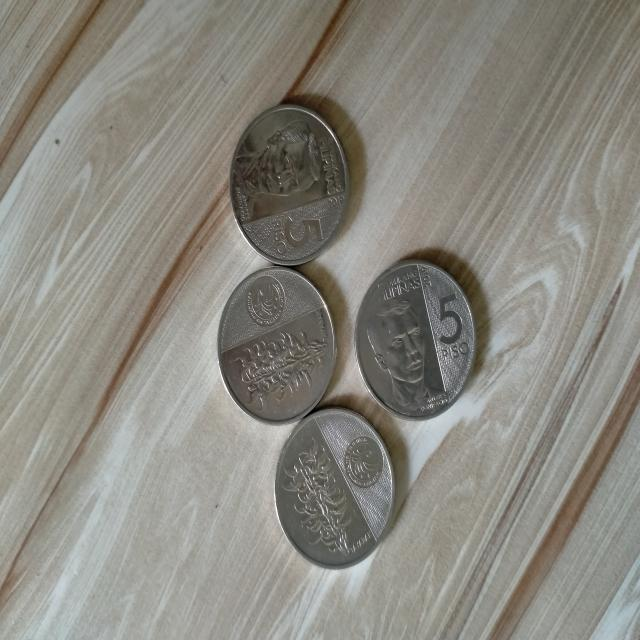5_New_Back: (277, 430, 367, 565), (228, 322, 331, 401)
5_New_Front: (427, 281, 481, 368), (266, 206, 331, 263)
